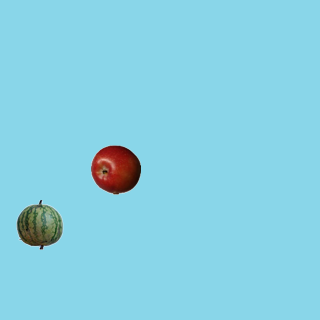Apple Braeburn: (90, 144, 140, 194)
Watermelon: (14, 199, 64, 249)
